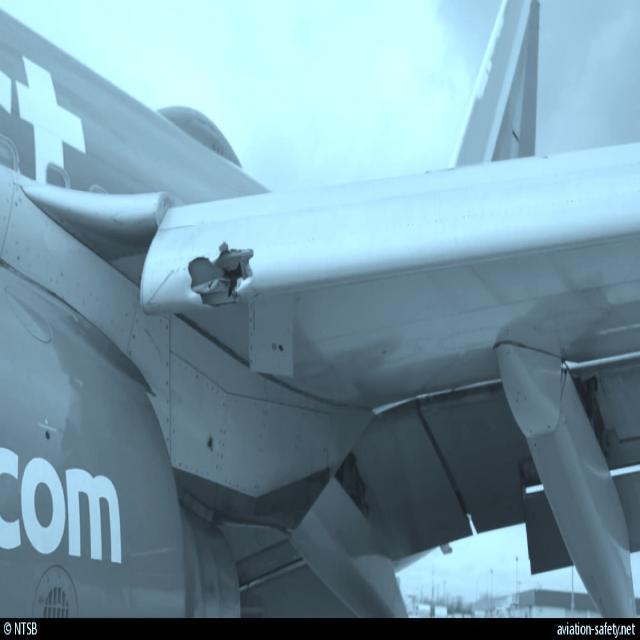crack: (188, 245, 259, 310)
